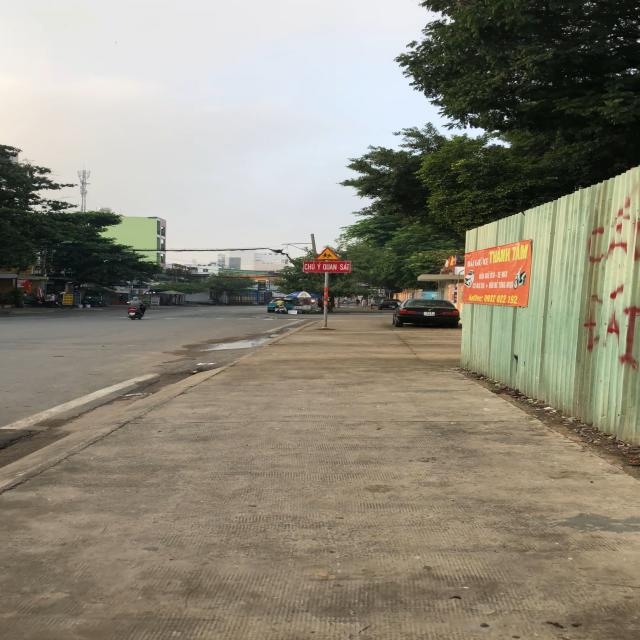Bien bao tre em: (314, 246, 342, 260)
